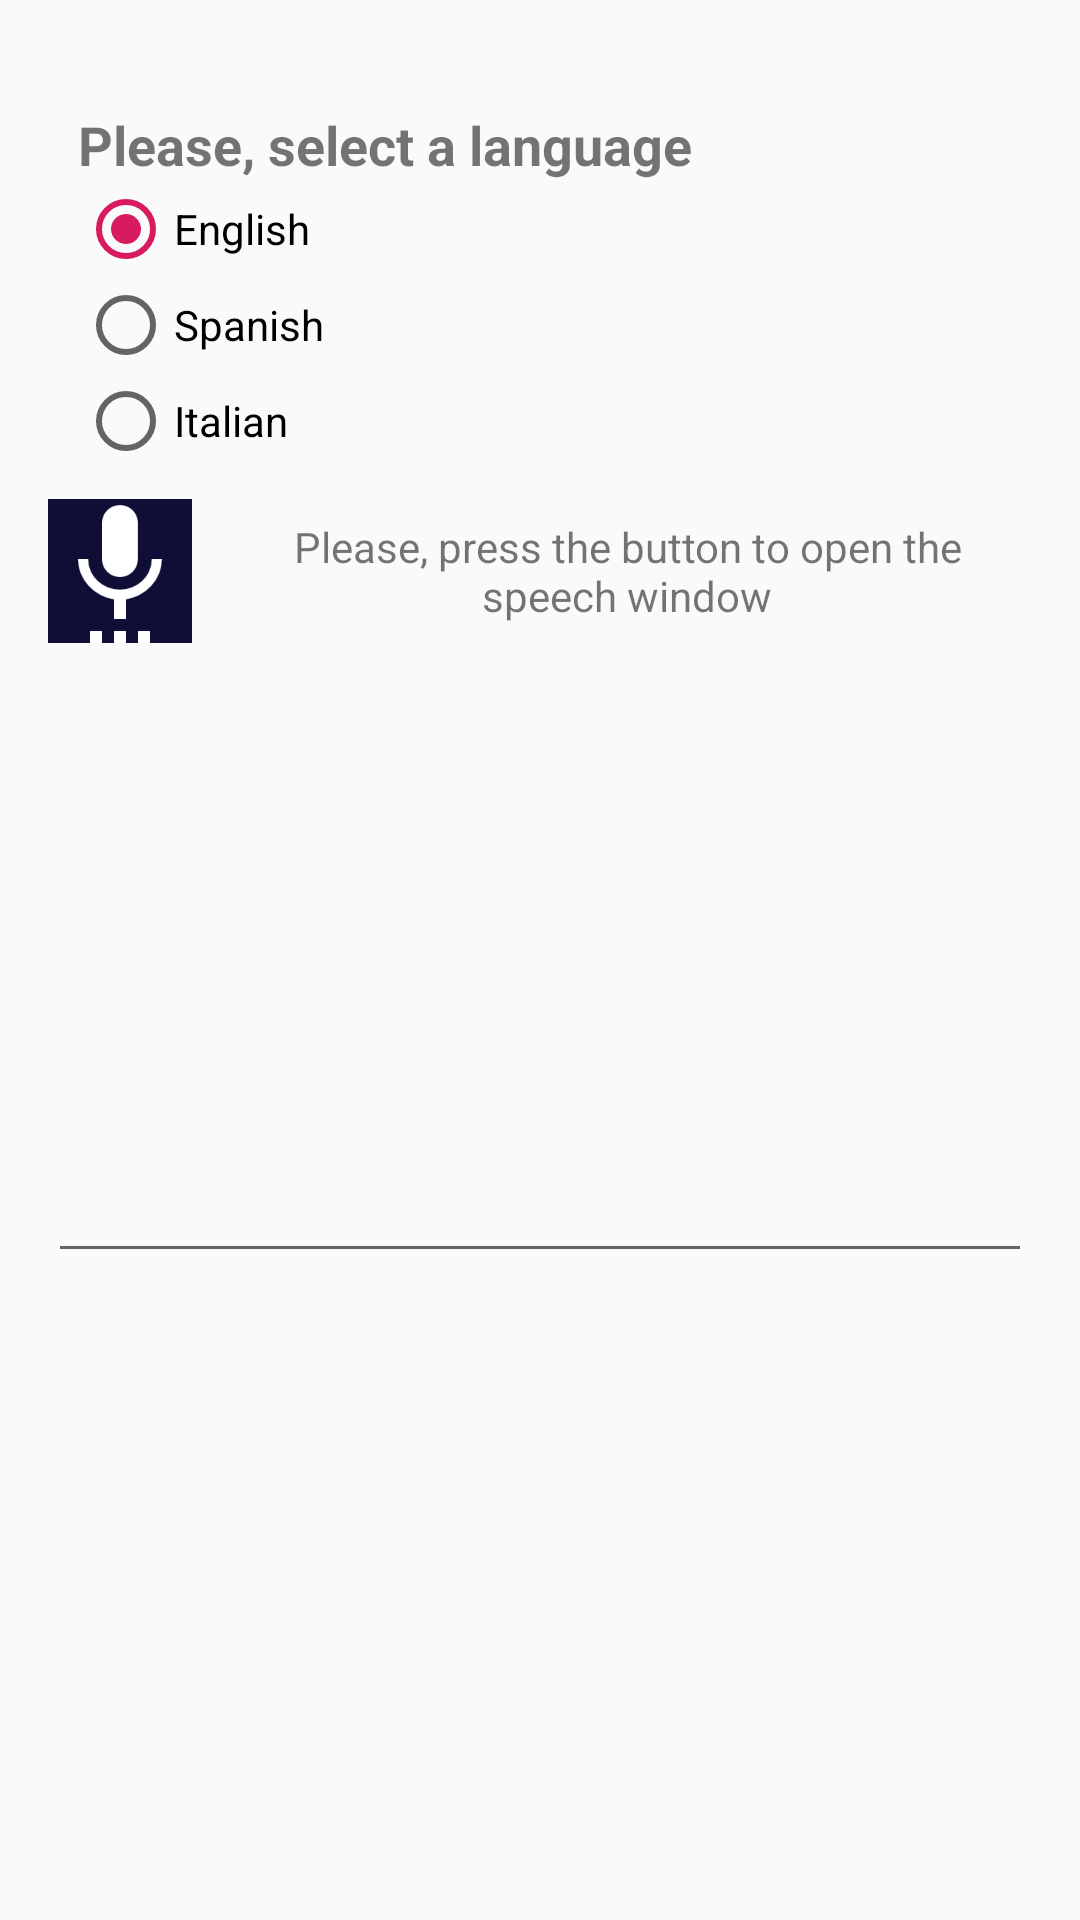

Icon click points for this 1080 x 1920 phone screenshot, format (x=x, y=y):
settings voice: (x=120, y=571)
